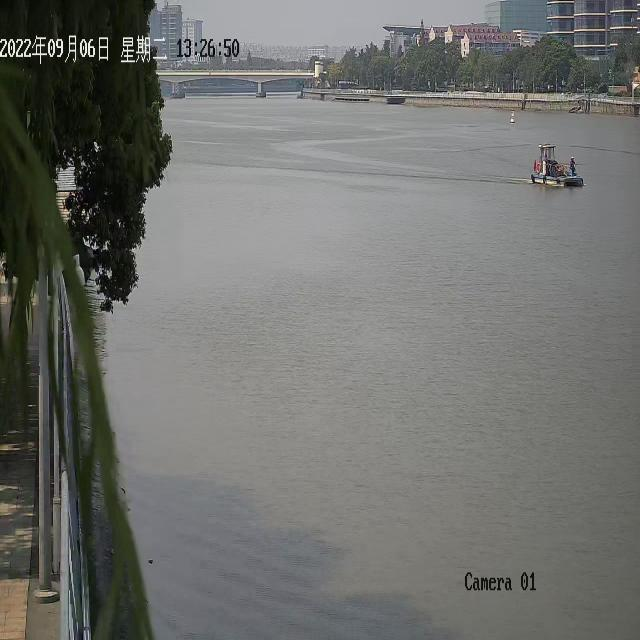ship: (530, 143, 582, 186)
